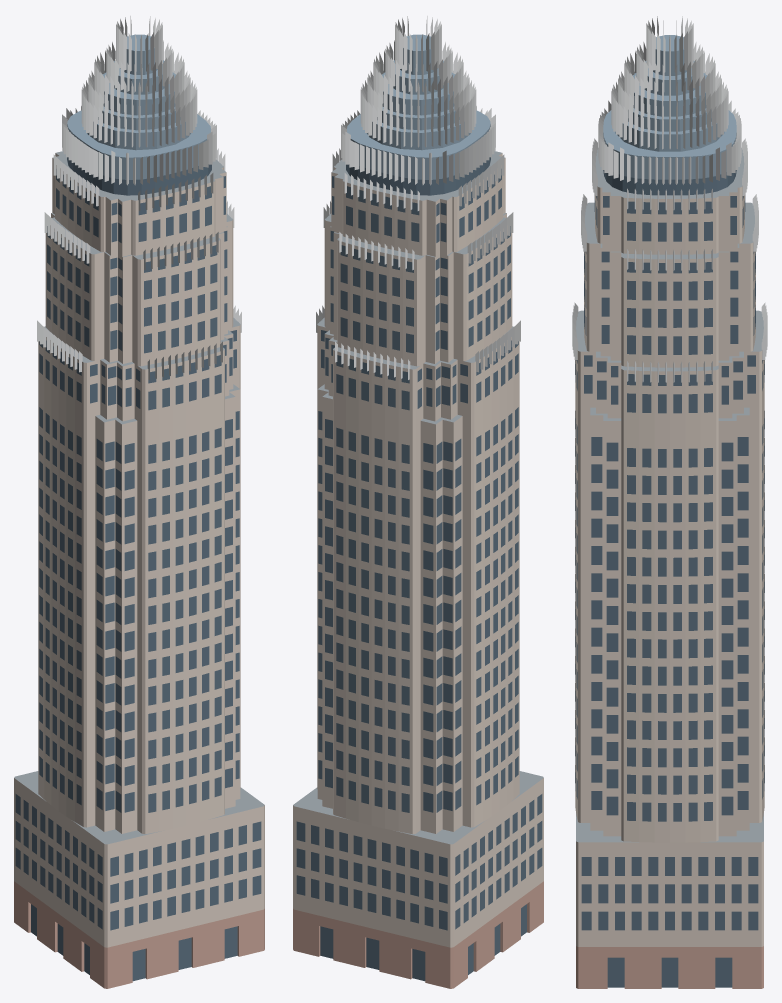
The model's file is bank-of-america-corporate-center.glb.
The picture shows the model from 3 angles, left to right: view 1: azimuth 30°, elevation 25°; view 2: azimuth 150°, elevation 25°; view 3: azimuth 270°, elevation 25°; orthographic projection.
Visible parts, largest first — view 1: Bank of America Corporate Center; view 2: Bank of America Corporate Center; view 3: Bank of America Corporate Center.
Part boxes in pixels (bbox=[...]): Bank of America Corporate Center: bbox=[14, 16, 264, 988]; Bank of America Corporate Center: bbox=[293, 16, 543, 988]; Bank of America Corporate Center: bbox=[572, 16, 767, 988].
Size of the model in its own units: 50.76 by 265 by 50.76.
